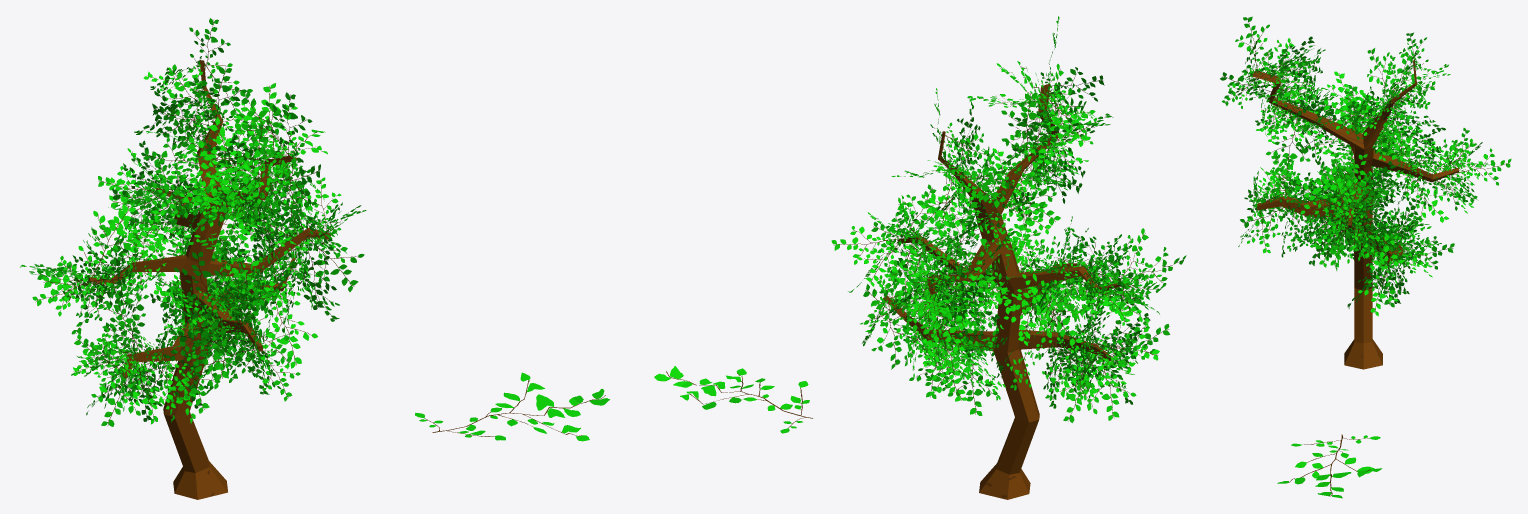
The model's file is Temperate Tree.fbx.
3 views of the same model, side by side, from view 1: azimuth 30°, elevation 25°; view 2: azimuth 150°, elevation 25°; view 3: azimuth 270°, elevation 25° (orthographic). The views are drawn at different scales.
Parts seen in each view (by area): view 1: Trunk, Branch, Trunk|Branch|Dupli|141, Trunk|Branch|Dupli|251, Trunk|Branch|Dupli|74, Trunk|Branch|Dupli|216, Trunk|Branch|Dupli|44, Trunk|Branch|Dupli|17, Trunk|Branch|Dupli|264, Trunk|Branch|Dupli|72, Trunk|Branch|Dupli|108, Trunk|Branch|Dupli|221; view 2: Trunk, Branch, Trunk|Branch|Dupli|23, Trunk|Branch|Dupli|130, Trunk|Branch|Dupli|298, Trunk|Branch|Dupli|285, Trunk|Branch|Dupli|46, Trunk|Branch|Dupli|128, Trunk|Branch|Dupli|177, Trunk|Branch|Dupli|2; view 3: Trunk, Branch, Trunk|Branch|Dupli|99, Trunk|Branch|Dupli|117, Trunk|Branch|Dupli|58, Trunk|Branch|Dupli|119, Trunk|Branch|Dupli|257, Trunk|Branch|Dupli|75, Trunk|Branch|Dupli|5, Trunk|Branch|Dupli|256, Trunk|Branch|Dupli|159, Trunk|Branch|Dupli|174 (+14 smaller).
Part boxes in pixels (<box>): Trunk: <box>88,60,330,499</box>; Branch: <box>415,372,609,441</box>; Trunk|Branch|Dupli|141: <box>78,204,138,286</box>; Trunk|Branch|Dupli|251: <box>260,293,317,368</box>; Trunk|Branch|Dupli|74: <box>234,90,304,159</box>; Trunk|Branch|Dupli|216: <box>193,328,262,388</box>; Trunk|Branch|Dupli|44: <box>186,133,270,186</box>; Trunk|Branch|Dupli|17: <box>194,66,246,131</box>; Trunk|Branch|Dupli|264: <box>91,349,146,426</box>; Trunk|Branch|Dupli|72: <box>223,143,286,204</box>; Trunk|Branch|Dupli|108: <box>293,230,364,291</box>; Trunk|Branch|Dupli|221: <box>178,313,259,364</box>; Trunk: <box>883,83,1119,499</box>; Branch: <box>654,366,812,433</box>; Trunk|Branch|Dupli|23: <box>943,145,1006,215</box>; Trunk|Branch|Dupli|130: <box>1026,281,1083,346</box>; Trunk|Branch|Dupli|298: <box>1084,353,1136,420</box>; Trunk|Branch|Dupli|285: <box>1054,345,1100,422</box>; Trunk|Branch|Dupli|46: <box>1001,93,1053,160</box>; Trunk|Branch|Dupli|128: <box>1016,261,1068,318</box>; Trunk|Branch|Dupli|177: <box>919,285,969,352</box>; Trunk|Branch|Dupli|2: <box>921,167,967,237</box>; Trunk: <box>1252,59,1458,369</box>; Branch: <box>1277,434,1382,498</box>; Trunk|Branch|Dupli|99: <box>1294,175,1359,224</box>; Trunk|Branch|Dupli|117: <box>1318,167,1363,228</box>; Trunk|Branch|Dupli|58: <box>1266,117,1310,177</box>; Trunk|Branch|Dupli|119: <box>1352,214,1403,270</box>; Trunk|Branch|Dupli|257: <box>1358,257,1403,316</box>; Trunk|Branch|Dupli|75: <box>1235,16,1273,75</box>; Trunk|Branch|Dupli|5: <box>1323,94,1381,135</box>; Trunk|Branch|Dupli|256: <box>1395,236,1454,273</box>; Trunk|Branch|Dupli|159: <box>1405,165,1448,222</box>; Trunk|Branch|Dupli|174: <box>1456,148,1511,185</box>.
Bounding box in the file's own units: 2706 × 2014 × 1534.
